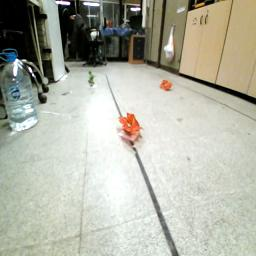herb: (88, 69, 97, 88)
wild: (118, 113, 146, 139), (161, 79, 175, 92)
